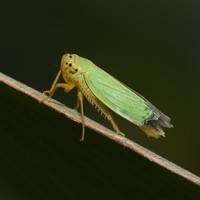insect: (44, 54, 172, 140)
